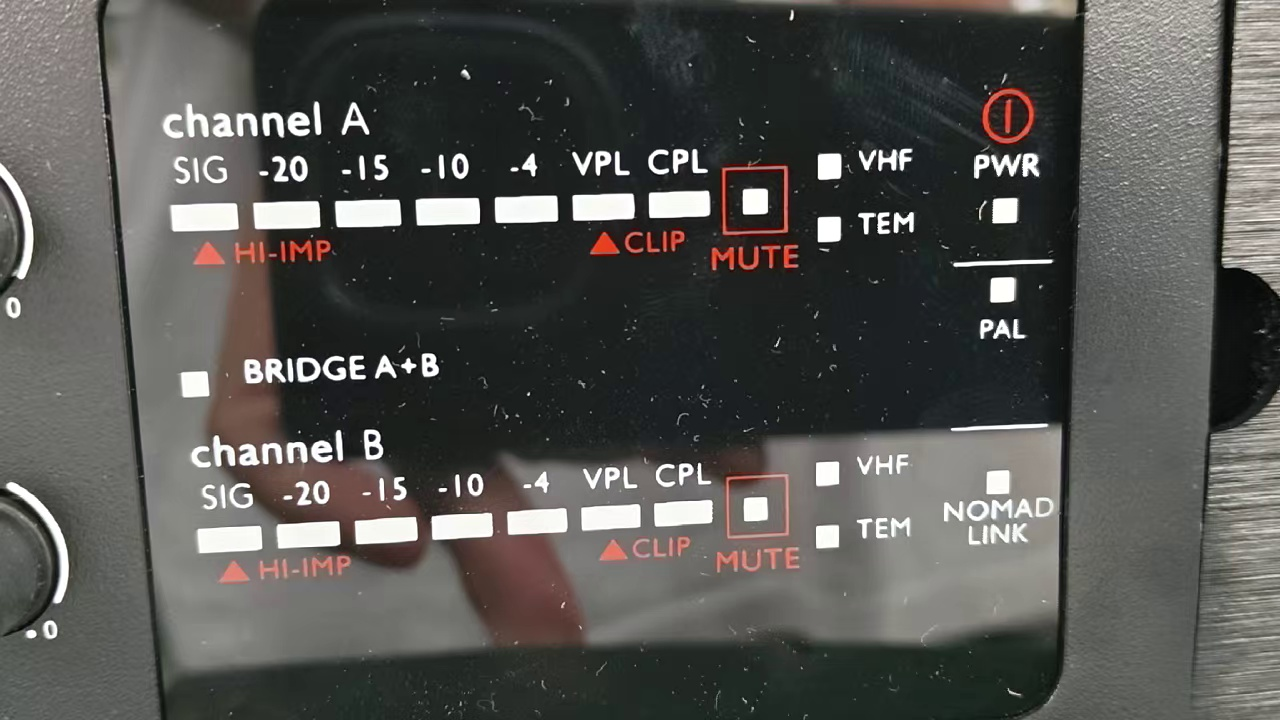FP_CPL: (643, 142, 715, 230), (646, 455, 717, 533)
FP_PWR: (954, 149, 1056, 233)
FP_PWR_area: (951, 80, 1054, 262)
FP_SIG_area: (184, 431, 911, 585), (160, 142, 921, 279)
FP_VPL: (567, 146, 641, 231), (577, 455, 644, 536)
